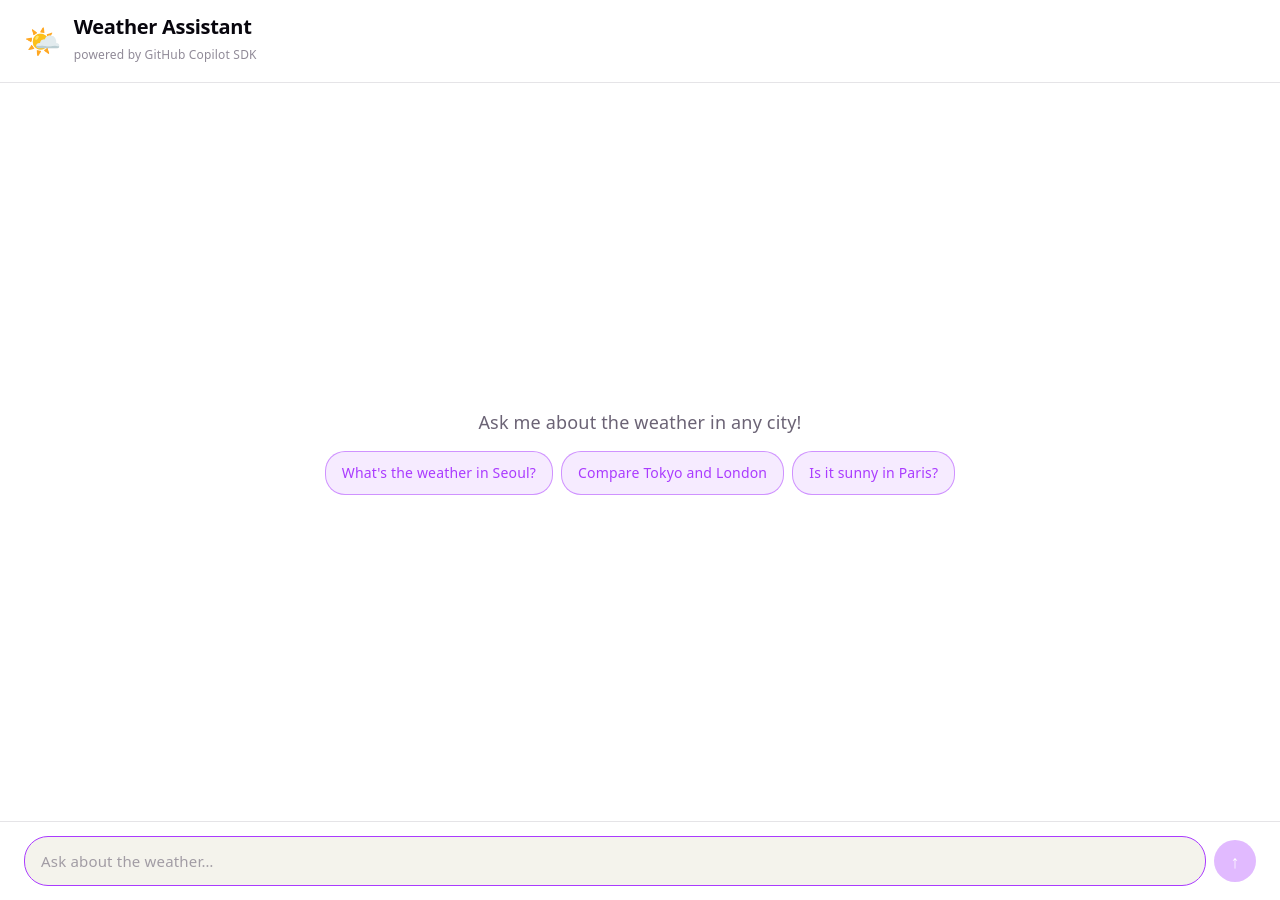
App: Weather Assistant UI › displays user and assistant messages after a conversation
The width and height of the screenshot is (1280, 900).
In the field: (615, 861) x1=24 y1=836 x2=1206 y2=886, type "What's the weather in Seoul?"
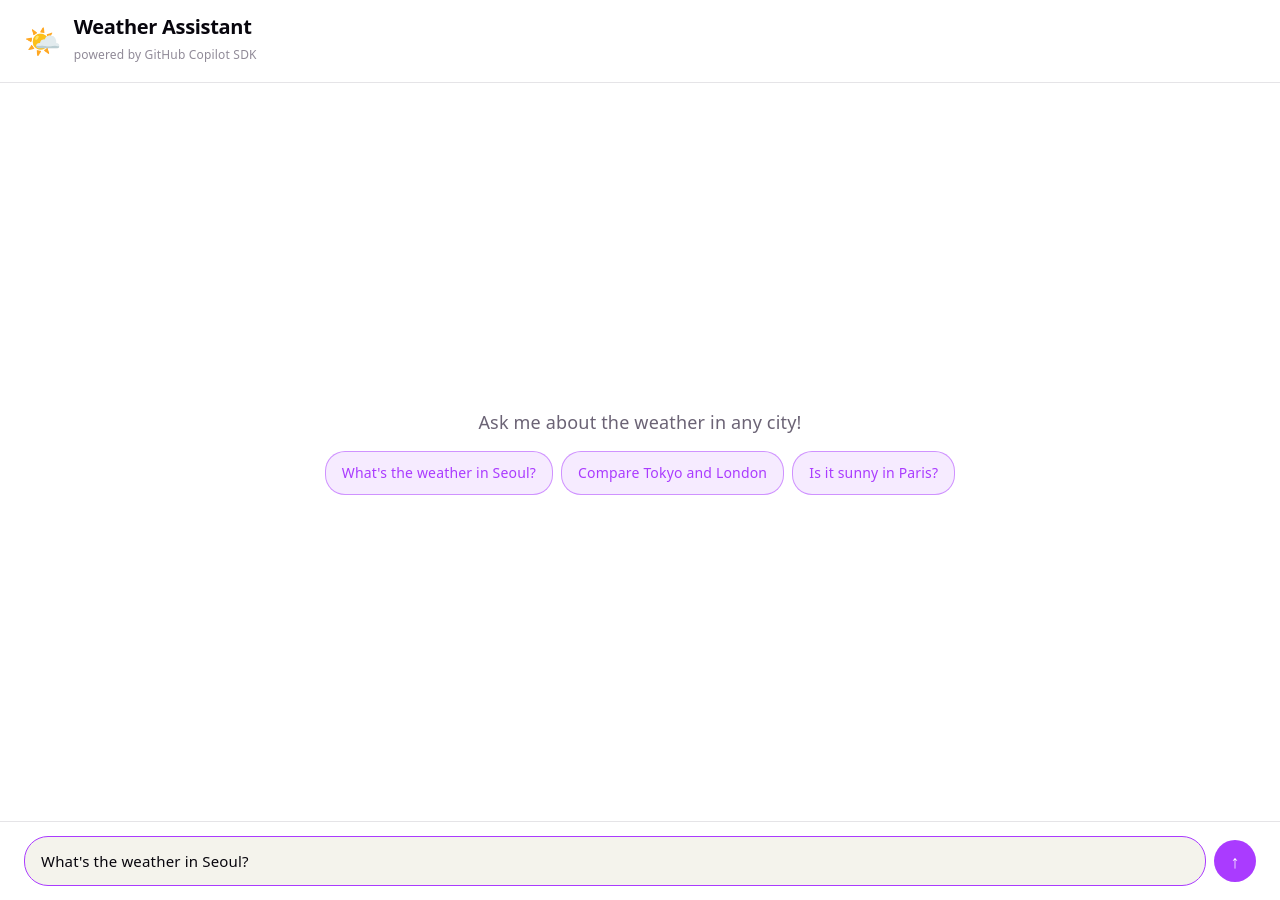
Submit the form, box x1=24 y1=836 x2=1256 y2=886
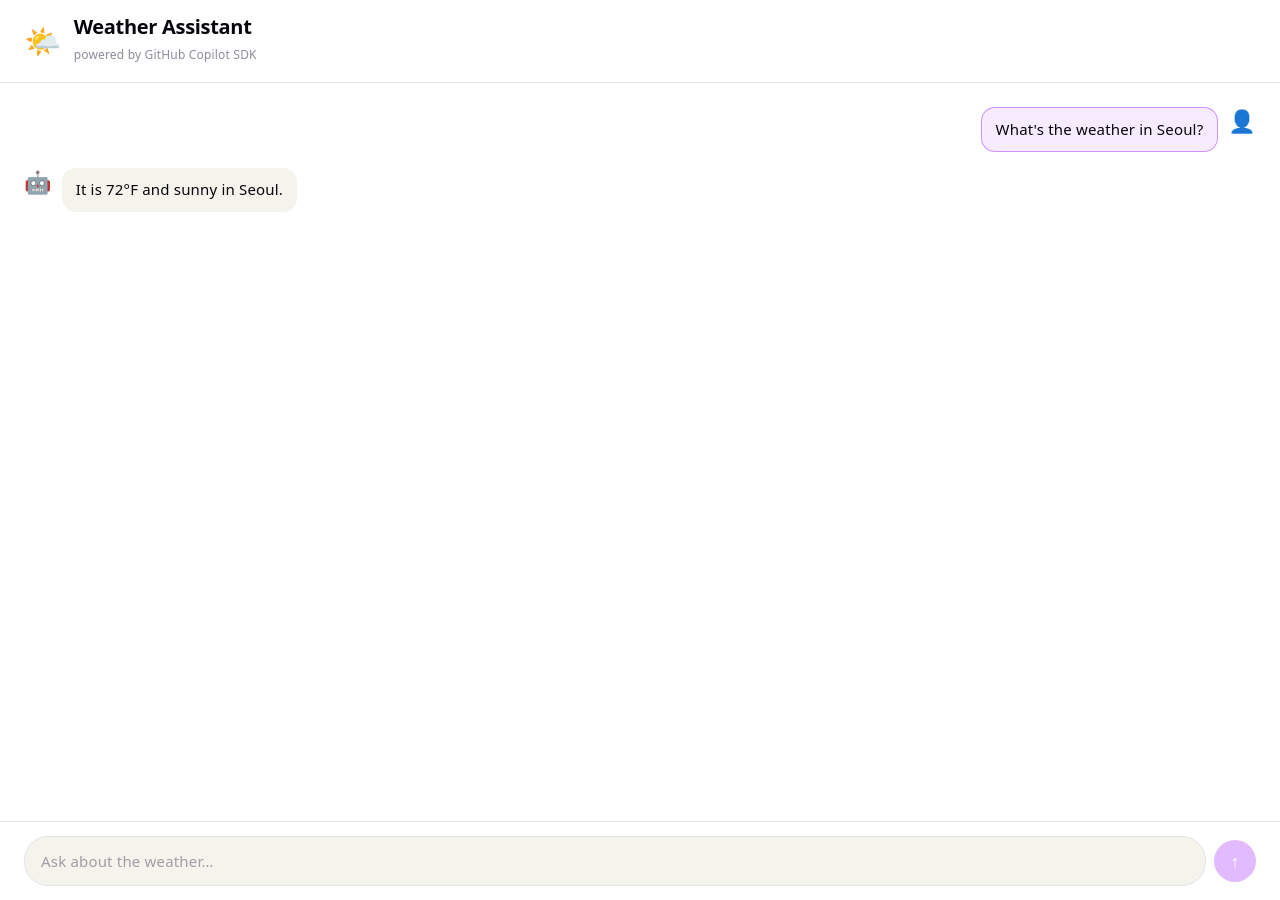
Result: the element with test id "messages" is shown at x1=24 y1=107 x2=1256 y2=212
Result: the element with test id "message-user" is shown at x1=980 y1=105 x2=1256 y2=152
Result: the element with test id "message-assistant" is shown at x1=24 y1=166 x2=297 y2=212
